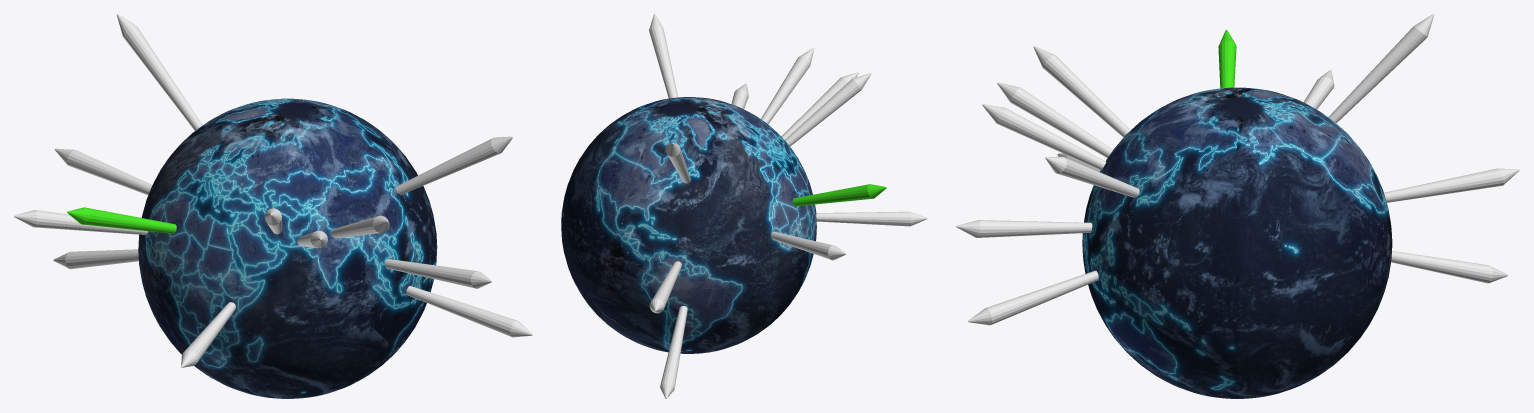
File: Earth_0719_texture.glb
3 renders of one model, left to right at view 1: azimuth 30°, elevation 25°; view 2: azimuth 150°, elevation 25°; view 3: azimuth 270°, elevation 25°, orthographic. The views are drawn at different scales.
Visible parts, largest first — view 1: Globe, NovaScotia, Indonesia, SouthKorea, Algeria, Cambodia, Venezuela, TheGambia, Bolivia, Kenya, Nepal; view 2: Globe, Kenya, Iran, Bolivia, Algeria, Nepal, SouthKorea, TheGambia, Pakistan, Venezuela, NovaScotia; view 3: Globe, NovaScotia, Venezuela, Indonesia, Nepal, Cambodia, Pakistan, Iran, Bolivia, SouthKorea, Algeria, TheGambia.
Part boxes in pixels (box(x1,y1,x2,y2)): Globe: box(138, 98, 437, 398); NovaScotia: box(117, 14, 202, 130); Indonesia: box(406, 286, 532, 337); SouthKorea: box(396, 136, 512, 194); Algeria: box(67, 207, 176, 233); Cambodia: box(385, 259, 491, 288); Venezuela: box(54, 148, 152, 194); TheGambia: box(14, 210, 147, 234); Bolivia: box(53, 249, 138, 269); Kenya: box(181, 302, 235, 367); Nepal: box(331, 215, 389, 238); Globe: box(561, 97, 816, 353); Kenya: box(816, 211, 927, 226); Iran: box(785, 73, 871, 146); Bolivia: box(660, 306, 687, 398); Algeria: box(792, 184, 886, 206); Nepal: box(761, 48, 813, 124); SouthKorea: box(649, 14, 678, 98); TheGambia: box(771, 231, 846, 260); Pakistan: box(781, 72, 858, 139); Venezuela: box(649, 261, 681, 313); NovaScotia: box(665, 143, 690, 183); Globe: box(1082, 87, 1392, 398); NovaScotia: box(1328, 14, 1433, 122); Venezuela: box(1384, 168, 1519, 202); Indonesia: box(968, 270, 1098, 325); Nepal: box(982, 104, 1106, 169); Cambodia: box(956, 220, 1092, 237); Pakistan: box(997, 82, 1112, 157); Iran: box(1033, 46, 1130, 137); Bolivia: box(1391, 251, 1507, 283); SouthKorea: box(1045, 156, 1139, 197); Algeria: box(1218, 30, 1236, 88); TheGambia: box(1303, 70, 1334, 109).
Bounding box in the file's own units: 1.51 × 1.28 × 1.97.
2 materials, 1 textured.
